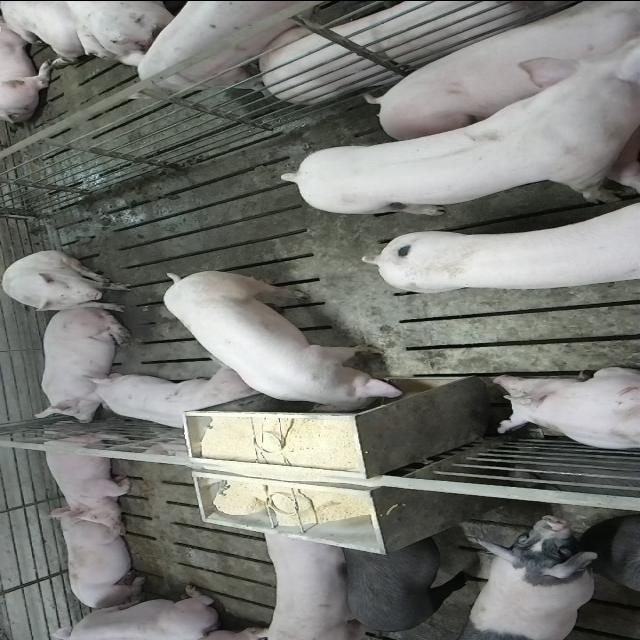Feeding: (162, 264, 406, 410)
Lateral_lying: (370, 0, 640, 142), (260, 0, 595, 101)
Sitting: (3, 250, 138, 311)
Standing: (279, 44, 637, 212), (372, 207, 640, 295), (120, 0, 342, 92), (466, 513, 602, 637), (336, 530, 472, 636), (258, 521, 368, 637), (610, 513, 640, 603)
Sternal_lying: (486, 366, 640, 450), (82, 369, 263, 432), (32, 311, 132, 422), (39, 584, 223, 638), (52, 510, 149, 611), (36, 426, 134, 524)
